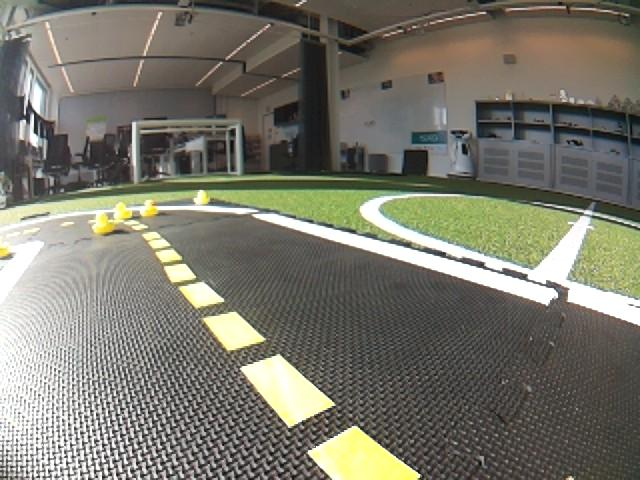Duckies: (92, 213, 115, 233), (140, 200, 158, 217), (114, 202, 132, 218), (193, 190, 210, 204), (1, 239, 12, 260)
